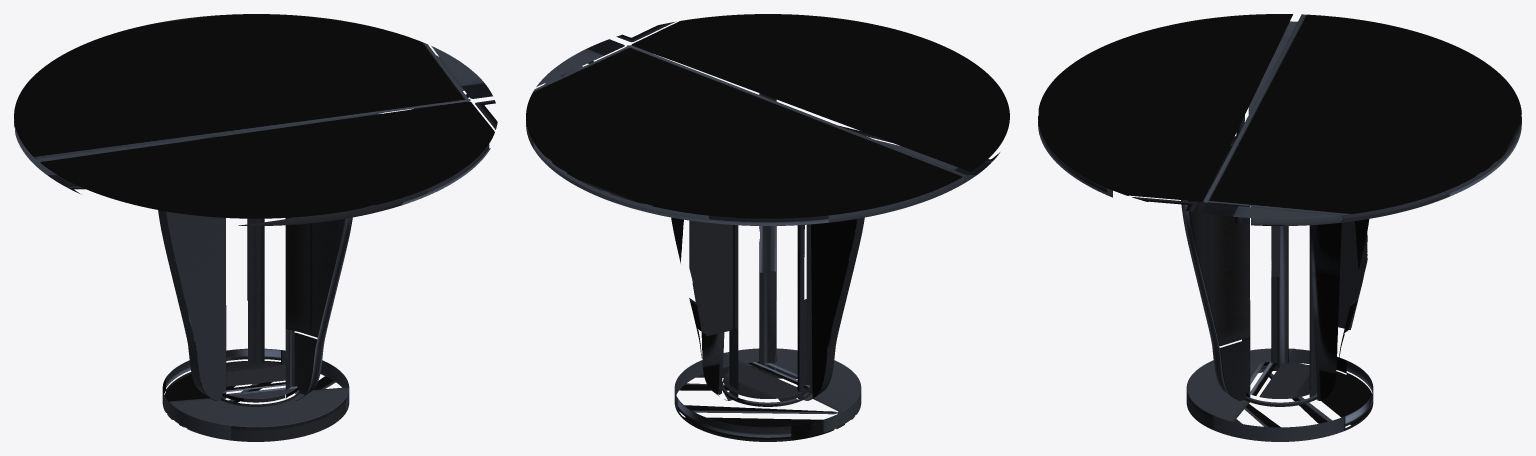
Rendered from raw_model.obj.
3 renders of one model, left to right at view 1: azimuth 30°, elevation 25°; view 2: azimuth 150°, elevation 25°; view 3: azimuth 270°, elevation 25°, orthographic.
Parts seen in each view (by area): view 1: solid; view 2: solid; view 3: solid.
Boxes of the visible parts, x1=… form: solid: x1=14, y1=14, x2=497, y2=441; solid: x1=526, y1=14, x2=1009, y2=441; solid: x1=1038, y1=14, x2=1521, y2=441.
Bounding box in the file's own units: 0.563 × 0.3679 × 0.563.
